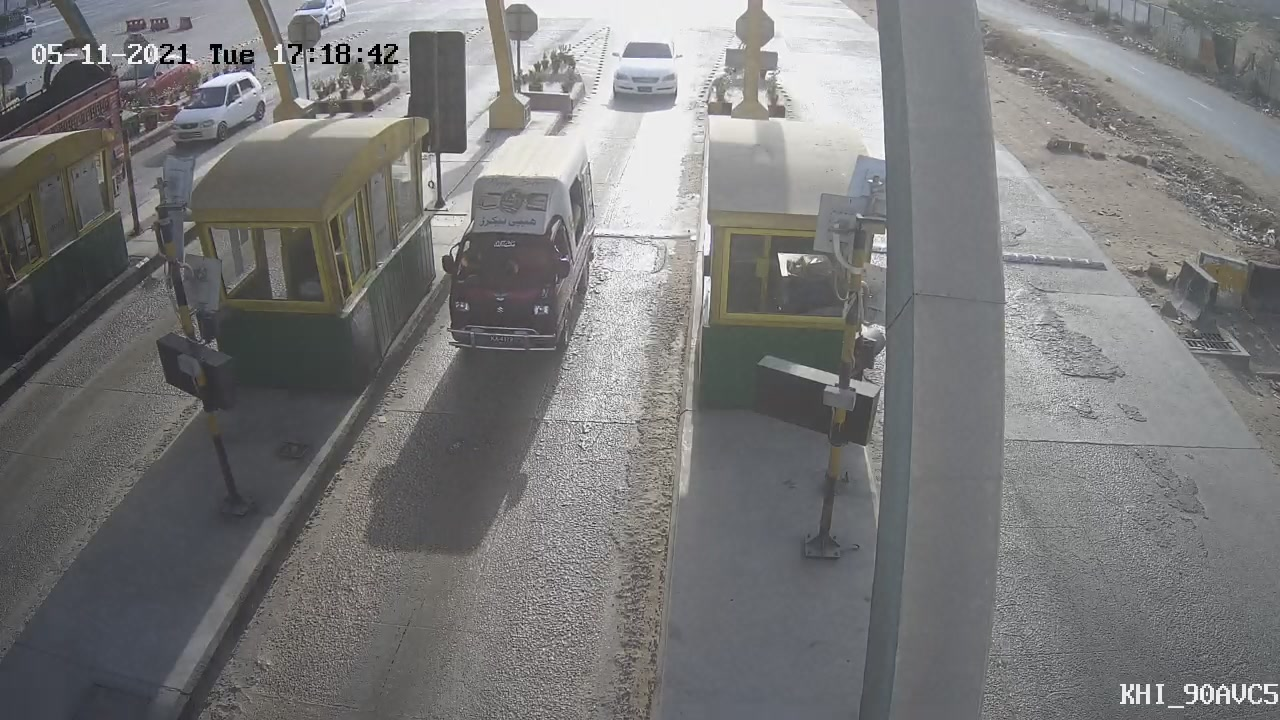F1: (417, 117, 617, 382)
